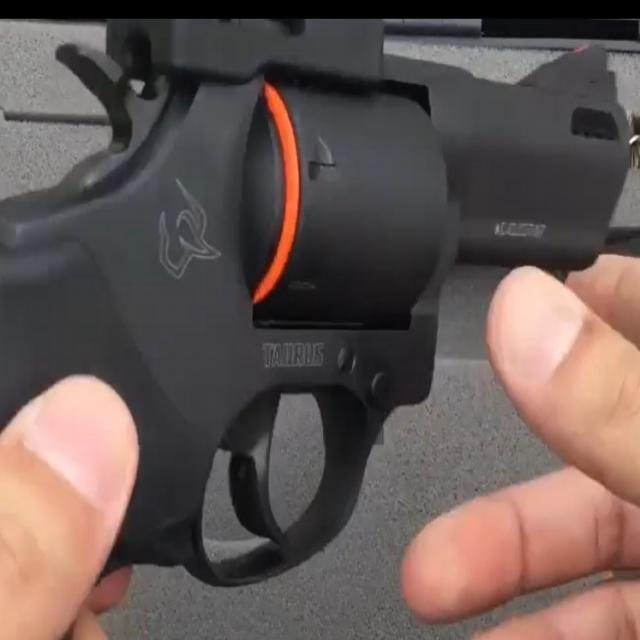revolver: (2, 9, 640, 614)
